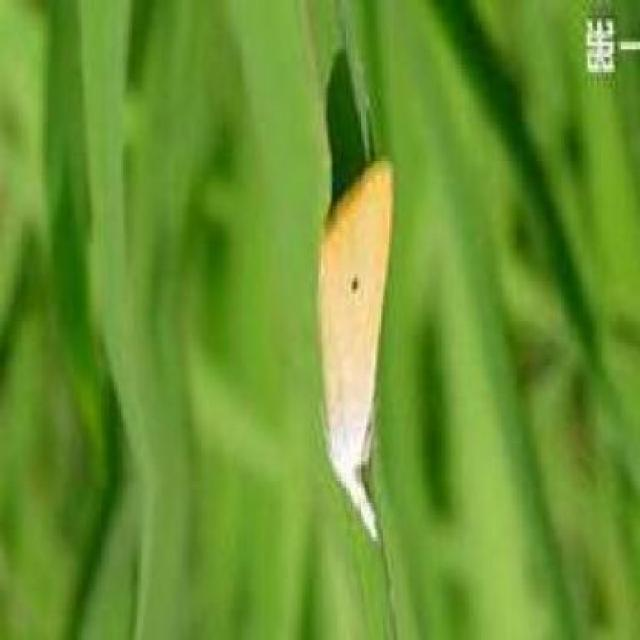stem-borer: (318, 154, 398, 548)
